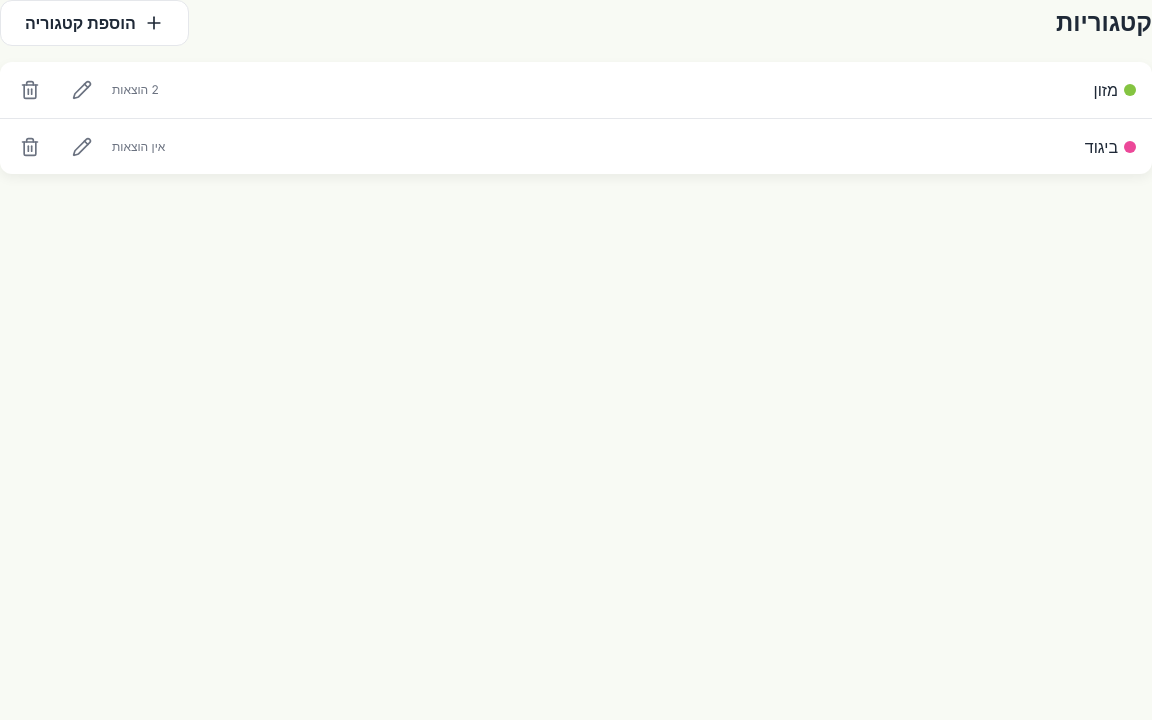
Test: CategoriesScreen › requires a replacement before deleting a category with expenses
Click the button named "מחיקת מזון": (30, 90) [8,68,52,112]
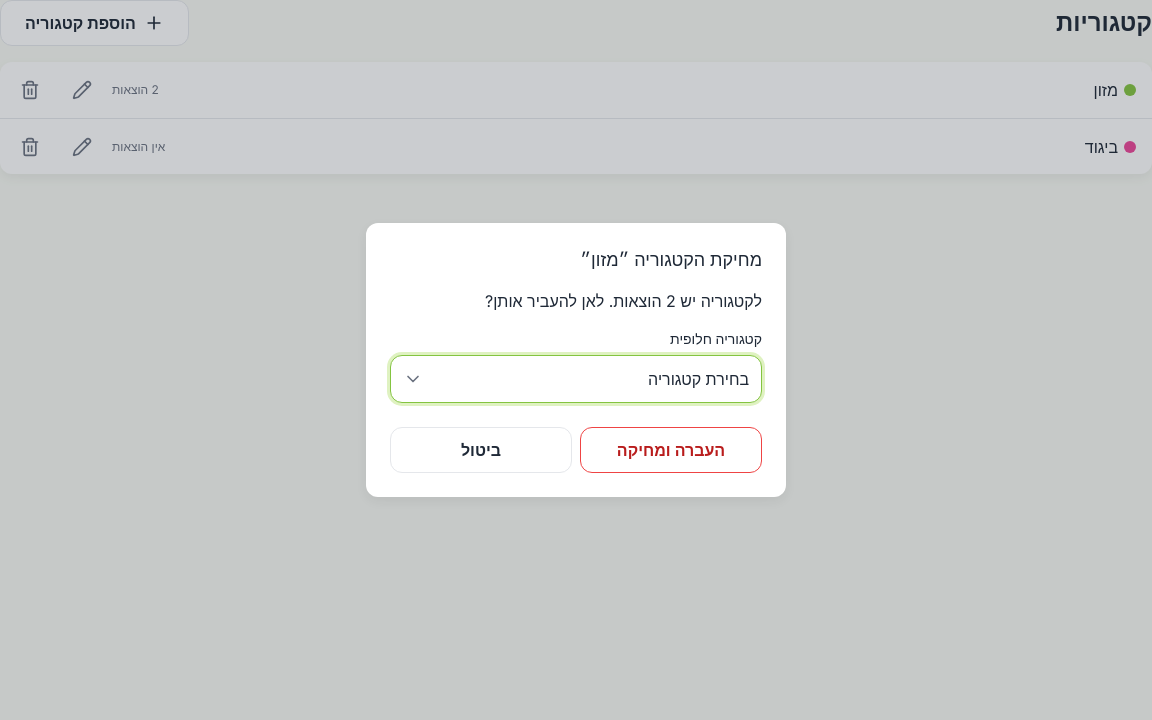
Now the text "לקטגוריה יש 2 הוצאות. לאן להעביר אותן?" is shown, box [485,291,762,311]
Click the button "העברה ומחיקה": (671, 450) [580,427,762,473]
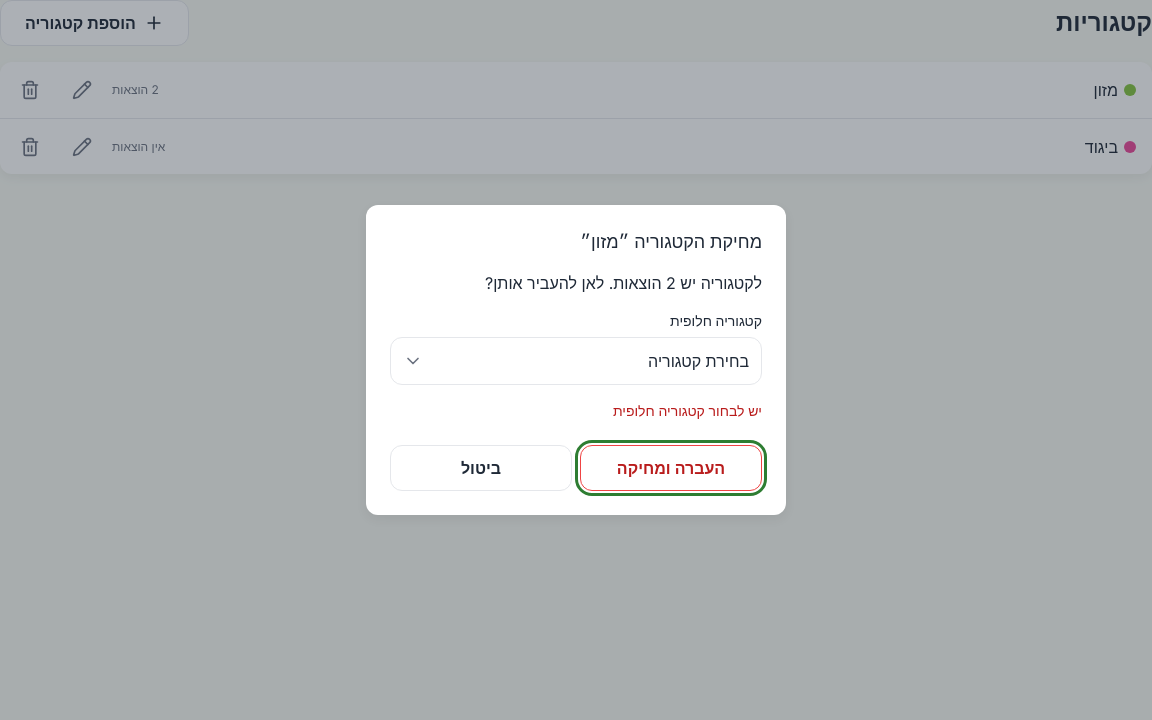
Now the message reads "יש לבחור קטגוריה חלופית", box [613,402,762,419]
